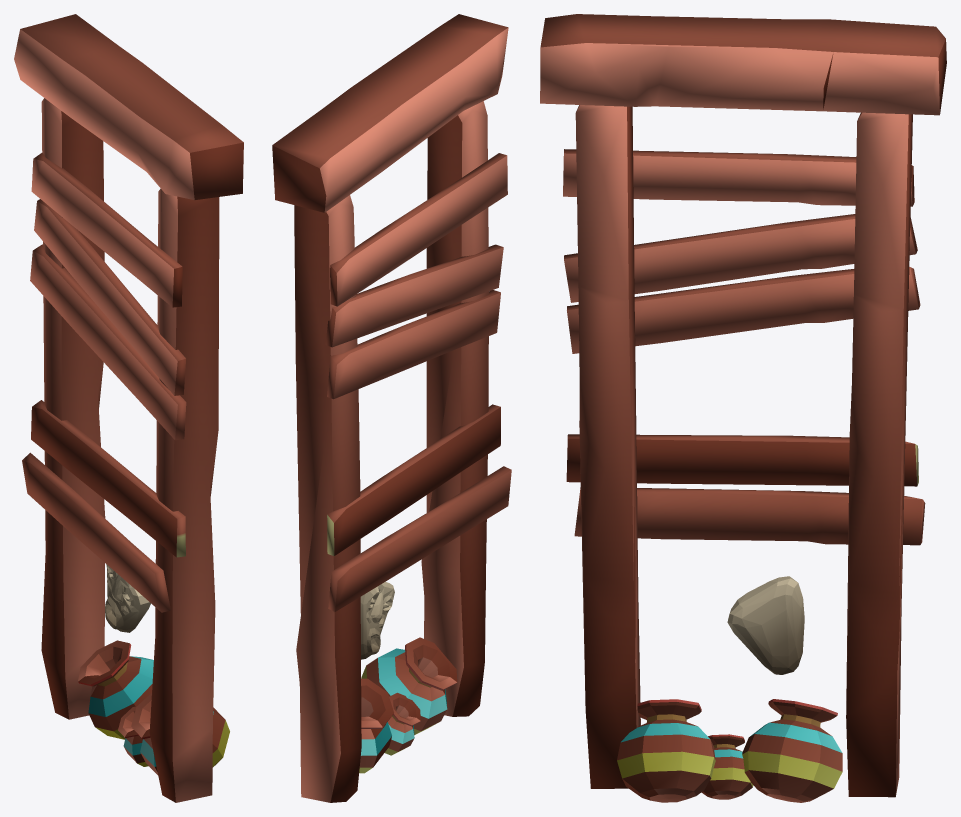
The model's file is Tapia9.Prop.9.fbx.
3 renders of one model, left to right at view 1: azimuth 30°, elevation 25°; view 2: azimuth 150°, elevation 25°; view 3: azimuth 270°, elevation 25°, orthographic. The views are drawn at different scales.
Parts seen in each view (by area): view 1: Vasija.002; view 2: Vasija.002; view 3: Vasija.002.
Boxes of the visible parts, x1=… form: Vasija.002: x1=14, y1=14, x2=243, y2=802; Vasija.002: x1=272, y1=14, x2=511, y2=802; Vasija.002: x1=540, y1=14, x2=946, y2=802.
Size of the model in its own units: 61.12 by 364 by 176.
